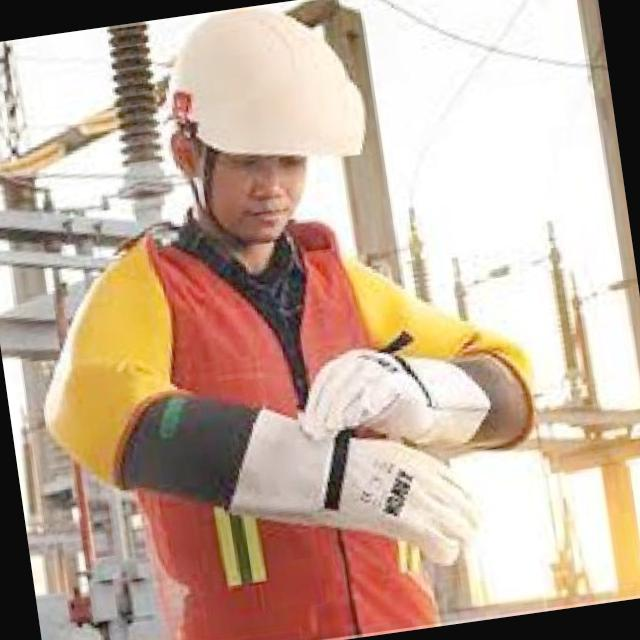vest: (104, 207, 458, 640)
